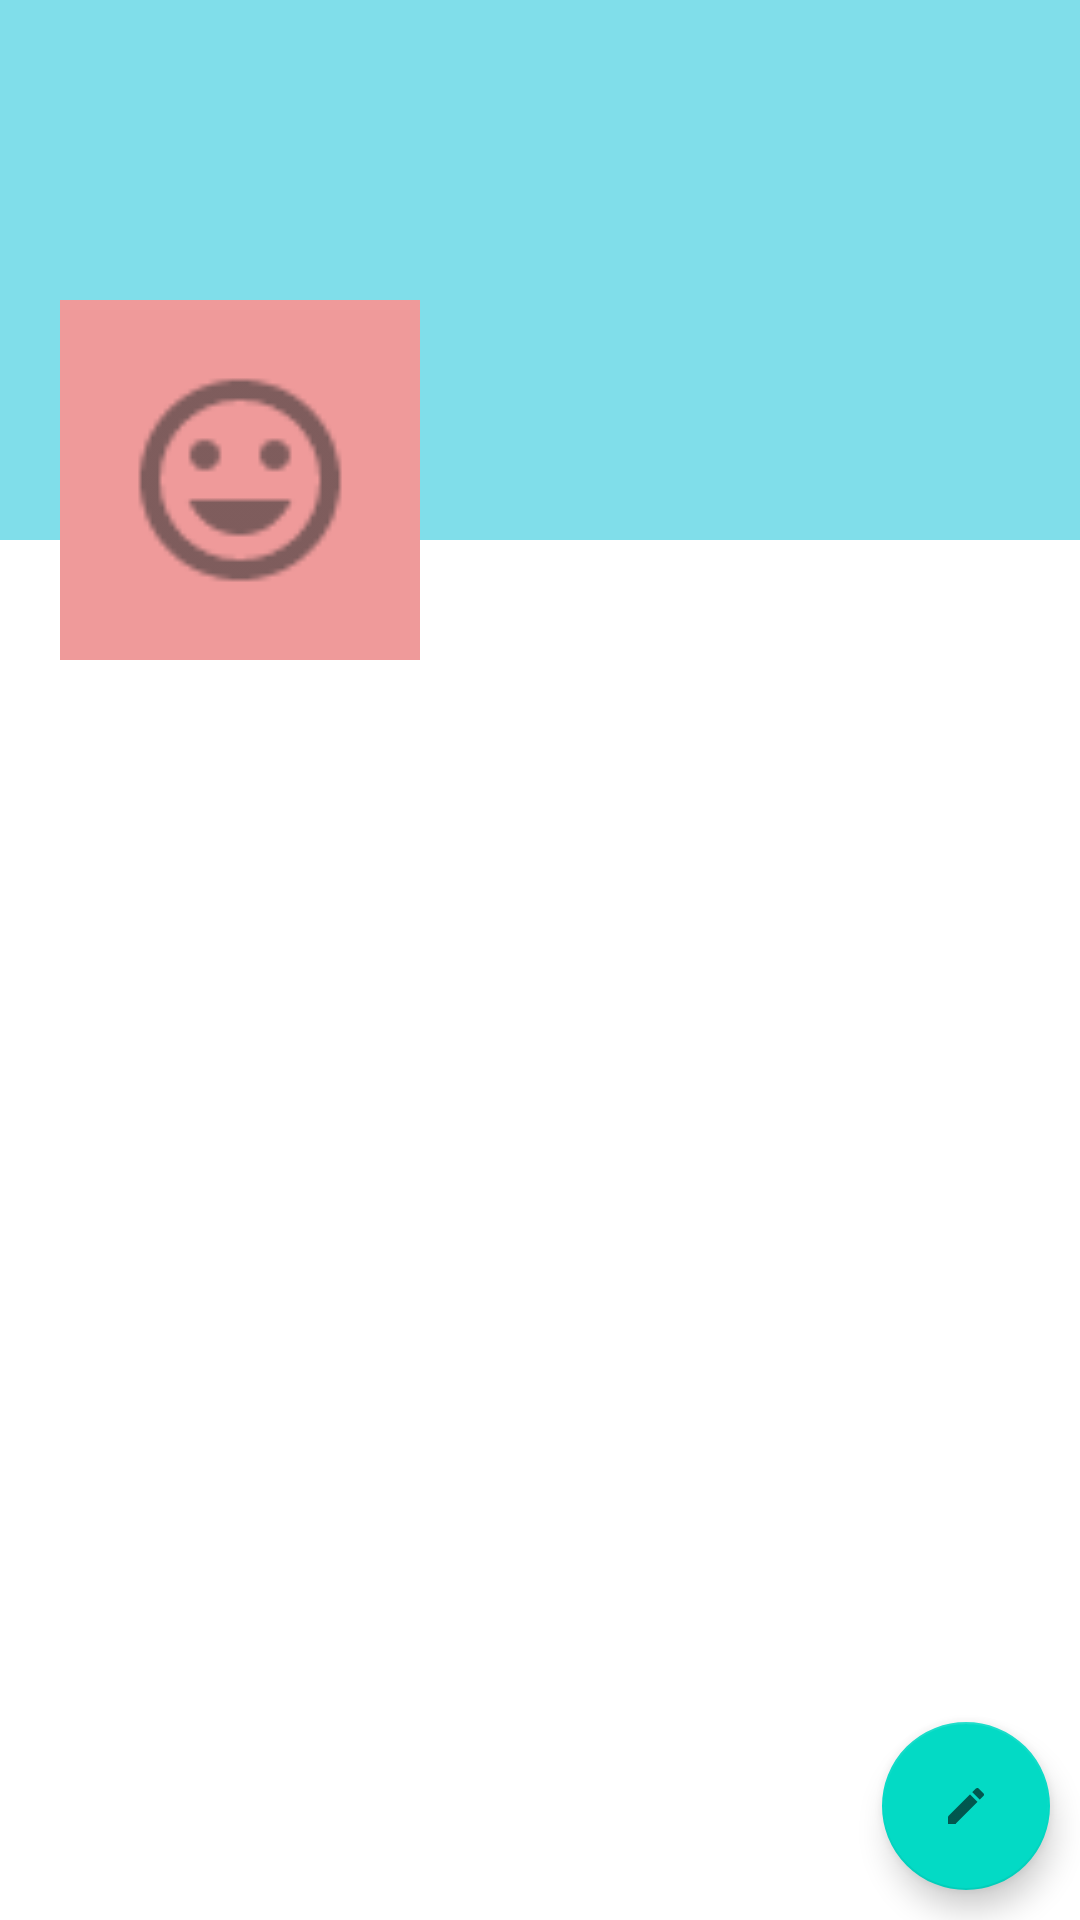

Icons on this 1080×1920 Android screen, each with the point to tap as [x,y]:
edit: [966,1806]
